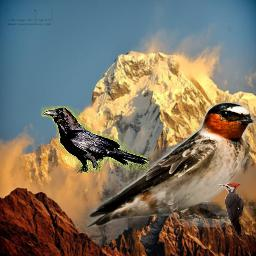Crow: (41, 106, 149, 173)
Swallow: (85, 100, 256, 228)
Woodpecker: (217, 183, 246, 237)
